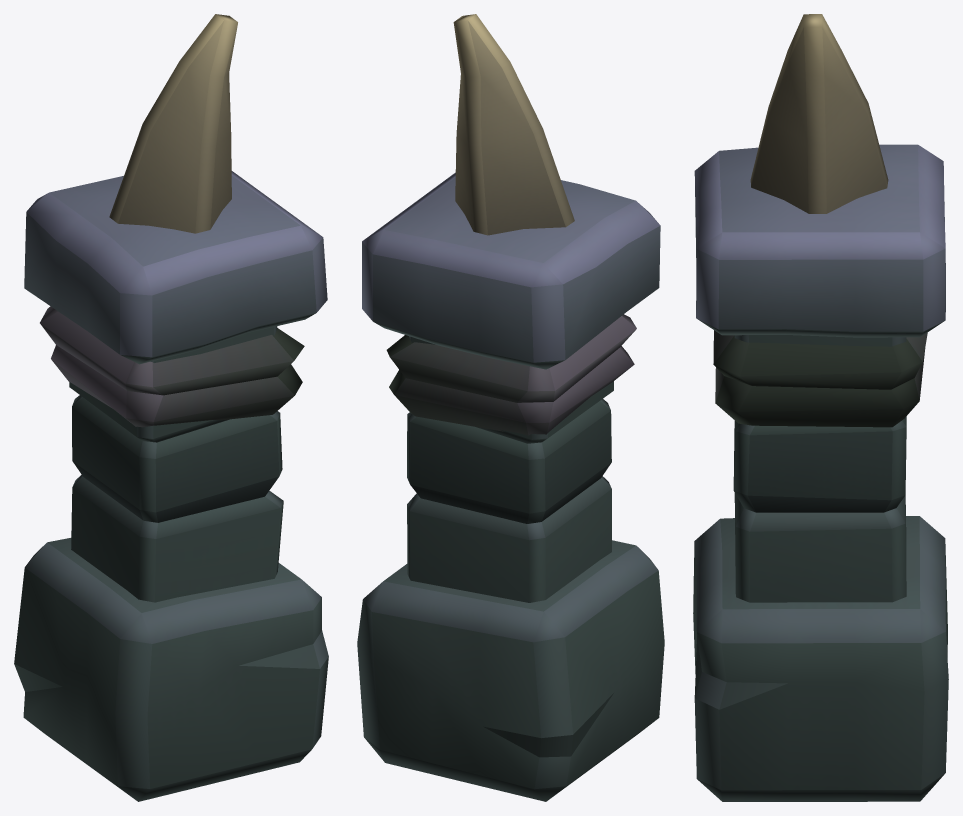
Rendered from undead_column_2.fbx.
3 renders of one model, left to right at view 1: azimuth 30°, elevation 25°; view 2: azimuth 150°, elevation 25°; view 3: azimuth 270°, elevation 25°, orthographic. The views are drawn at different scales.
Visible parts, largest first — view 1: undead_column_2; view 2: undead_column_2; view 3: undead_column_2.
Boxes of the visible parts, box(x1,y1,x2,y2) form: undead_column_2: box(14, 14, 328, 801); undead_column_2: box(357, 14, 664, 801); undead_column_2: box(693, 14, 948, 801).
Size of the model in its own units: 1.68 by 5.3 by 1.6.
